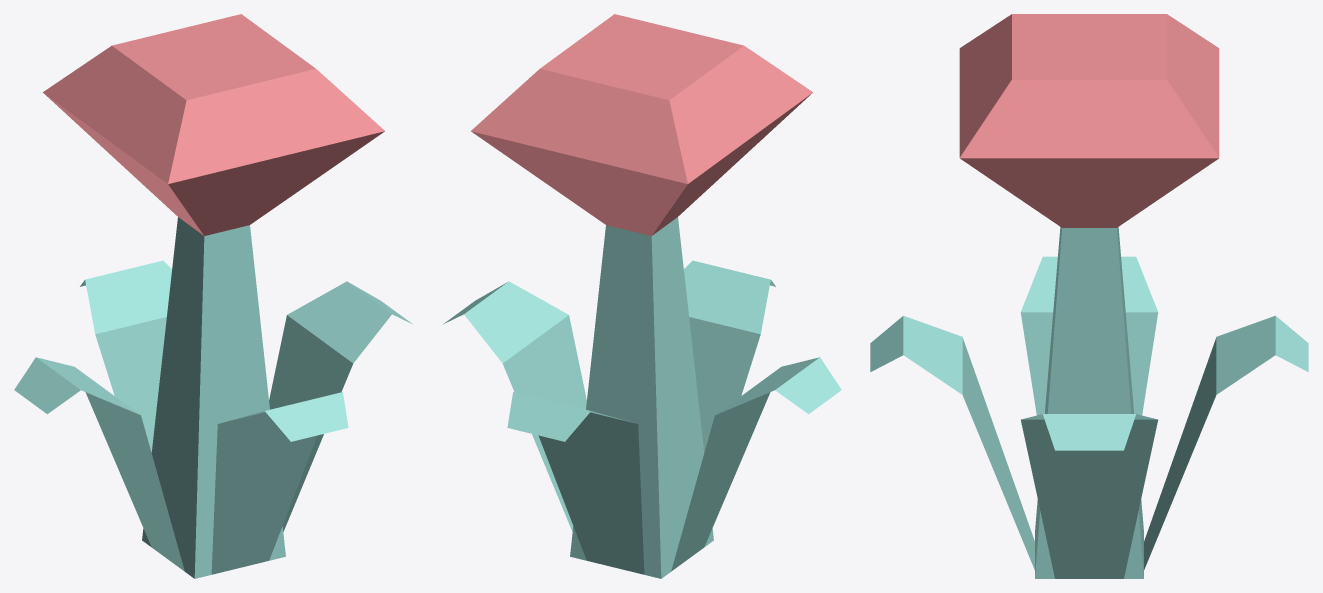
File: flower_red2.glb
The picture shows the model from 3 angles, left to right: view 1: azimuth 30°, elevation 25°; view 2: azimuth 150°, elevation 25°; view 3: azimuth 270°, elevation 25°; orthographic projection. The views are drawn at different scales.
Visible parts, largest first — view 1: flower_red2; view 2: flower_red2; view 3: flower_red2.
Boxes of the visible parts, left/top/right/bottom form: flower_red2: left=14, top=14, right=412, bottom=578; flower_red2: left=443, top=14, right=841, bottom=578; flower_red2: left=870, top=14, right=1308, bottom=578.
Size of the model in its own units: 0.1714 by 0.2196 by 0.1714.
